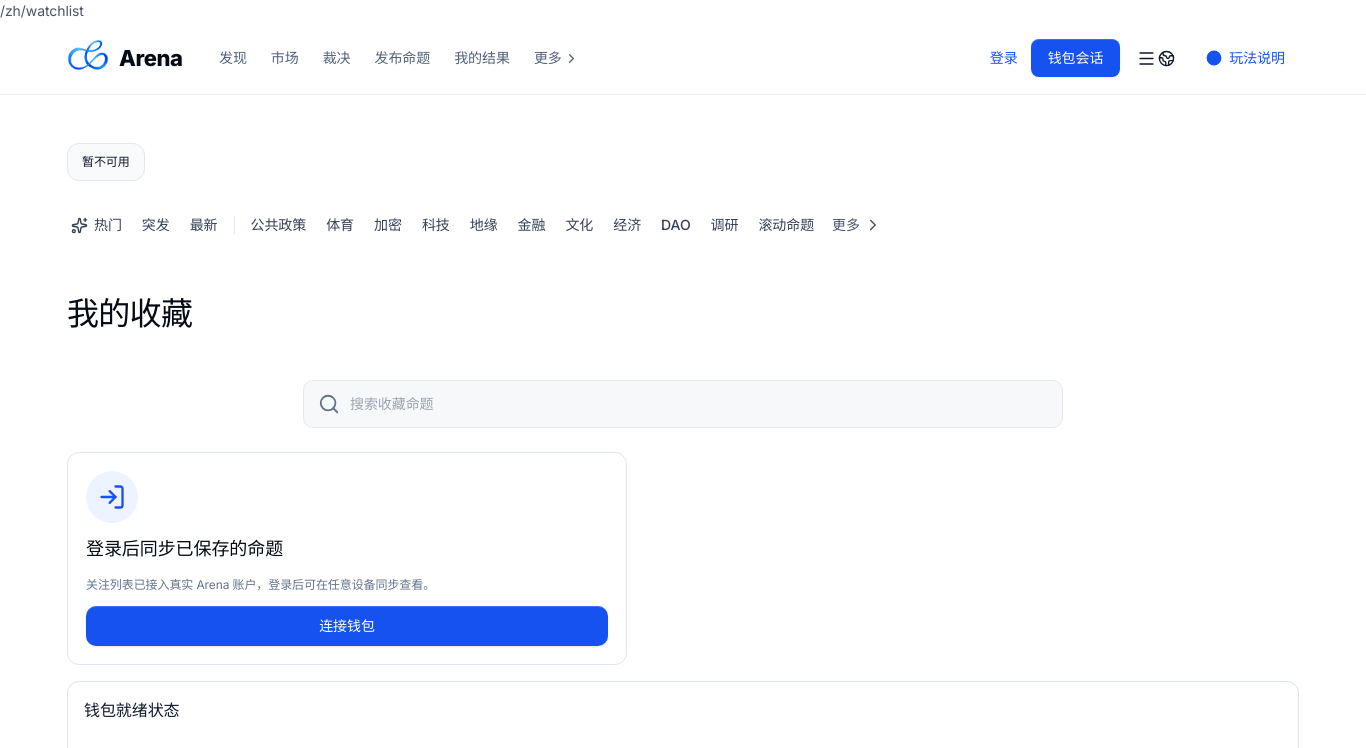
Test: quick menu popover › opens a nested language popover and switches language without navigating
Click the button named "Menu and language" at [1156, 58], box [1133,39,1179,77]
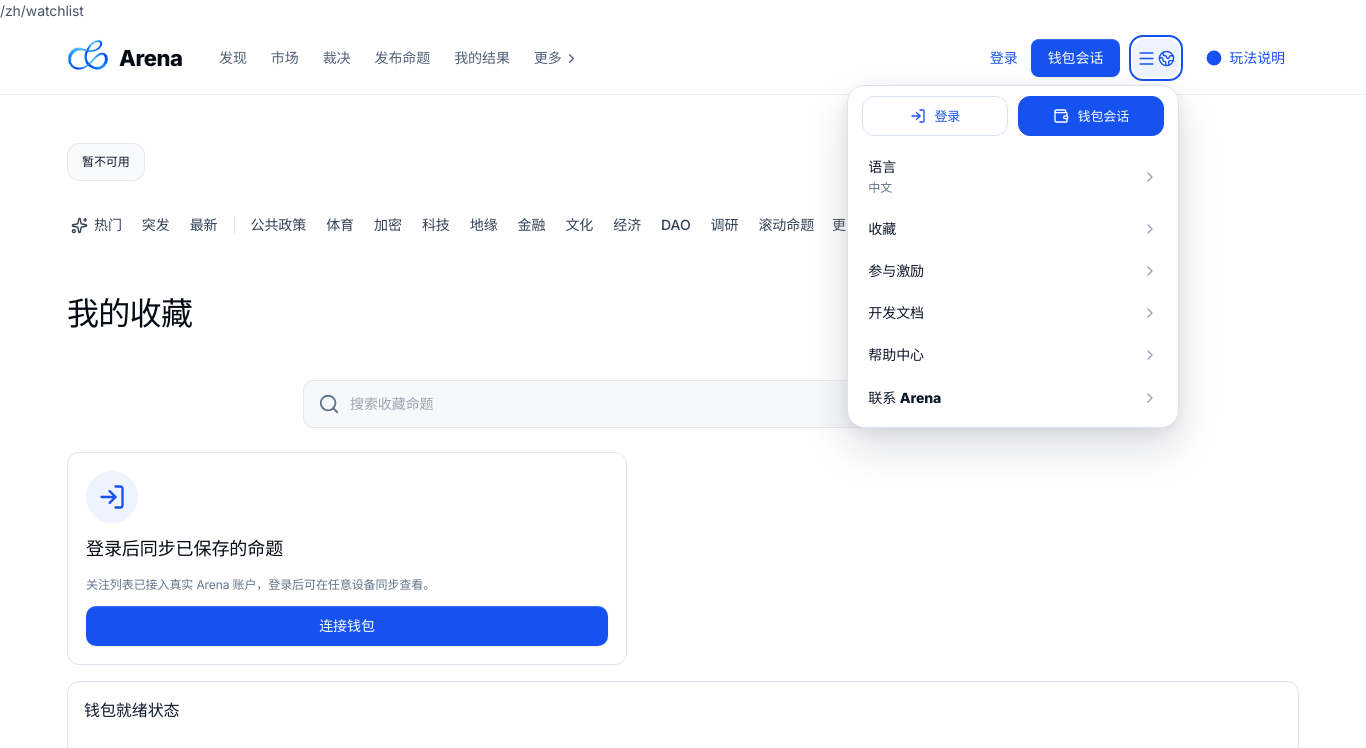
Click the button "语言 中文" at [882, 167], box [856,146,1170,208]
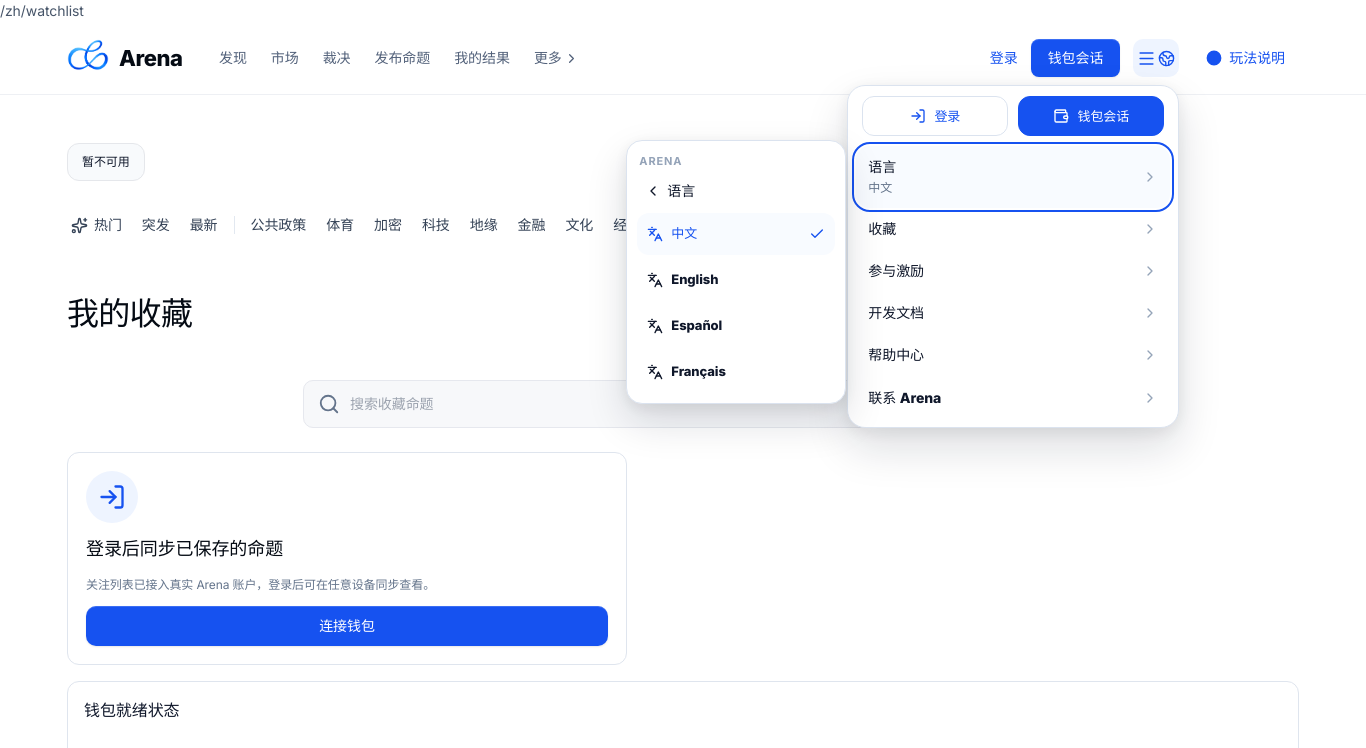
Expected: the text with test id "current-path" reads "/zh/watchlist", [0,2,84,19]
Expected: the button "English" is shown
Click the button "English" at [736, 280], box [637,259,835,301]
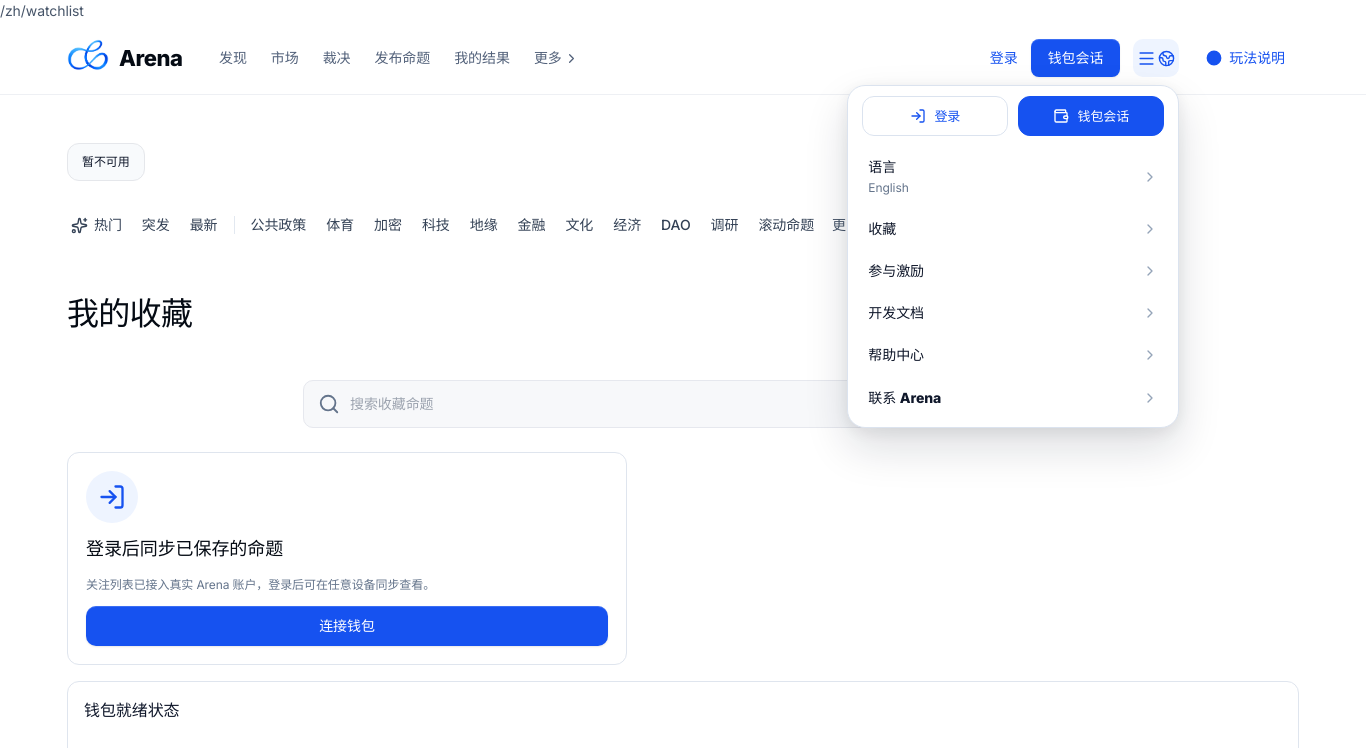
Expected: the text with test id "current-path" reads "/zh/watchlist", [0,2,84,19]
Expected: the dialog "语言选择" is gone
Expected: the button "语言 English" is shown, [856,146,1170,208]
